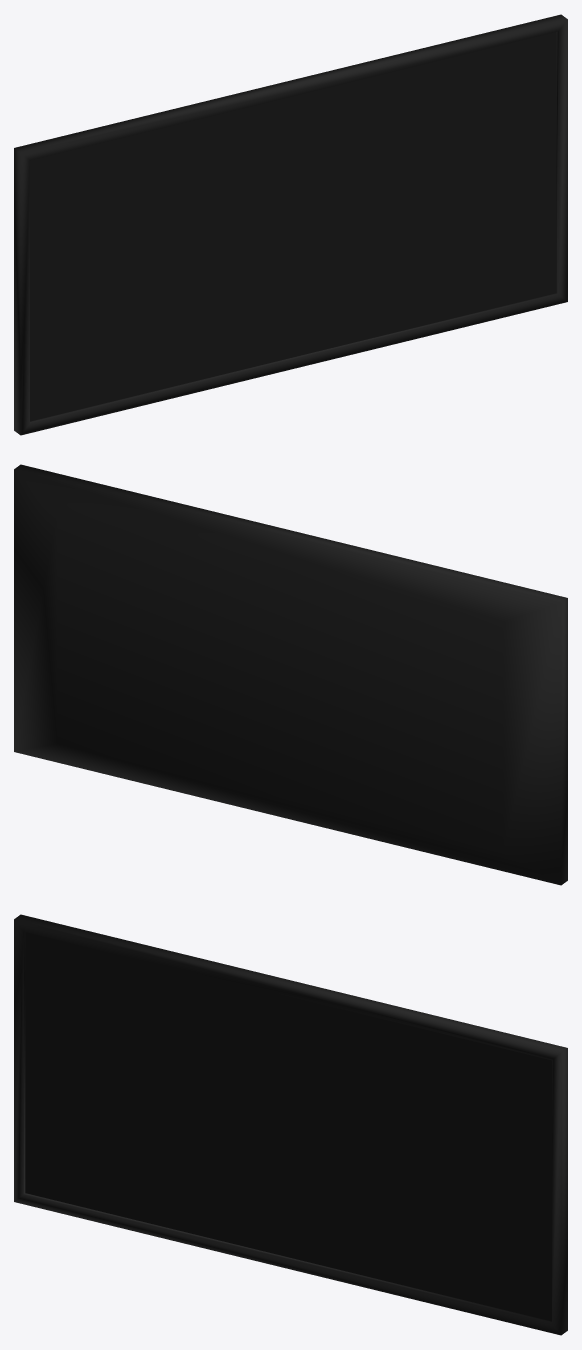
3 renders of one model, top to bottom at view 1: azimuth 30°, elevation 25°; view 2: azimuth 150°, elevation 25°; view 3: azimuth 330°, elevation 25°, orthographic.
Visible parts, largest first — view 1: Screen, Frame; view 2: Frame; view 3: Screen, Frame.
Boxes of the visible parts, left/top/right/bottom form: Screen: left=30, top=32, right=556, bottom=421; Frame: left=14, top=14, right=567, bottom=435; Frame: left=14, top=464, right=567, bottom=885; Screen: left=25, top=932, right=551, bottom=1321; Frame: left=14, top=914, right=567, bottom=1335.
Size of the model in its own units: 4.05 by 2 by 0.1821.
1 material, 1 textured.
